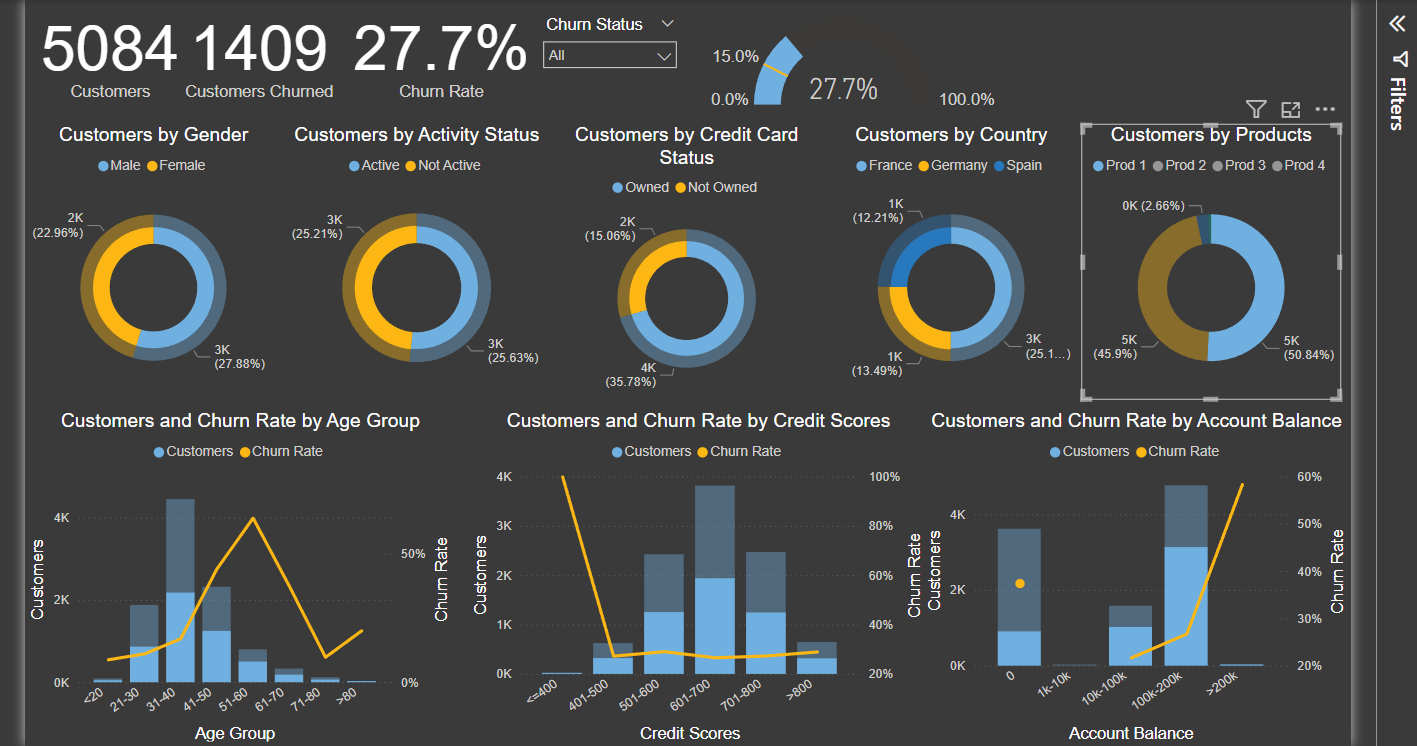

The page's visual inventory and layout, read from the dashboard file:
{"tool":"powerbi","page":{"name":"Page 1","canvas":[1280,720],"ordinal":0},"visuals":[{"type":"card","fields":{"Values":["Customer Data.Customers"]},"box":[9.8,0,145.5,101.5],"z":0},{"type":"card","fields":{"Values":["Customer Data.Customers Churned"]},"box":[146.8,0,157.8,101.5],"z":1},{"type":"card","fields":{"Values":["Customer Data.Churn Rate"]},"box":[304.6,0,193.5,101.5],"z":2},{"type":"donutChart","fields":{"Category":["Customer Data.Gender"],"Y":["Customer Data.Customers"]},"box":[0,119.4,248.4,266.2],"z":3},{"type":"donutChart","fields":{"Y":["Customer Data.Customers"],"Category":["Customer Data.Activity Status"]},"box":[248.4,119.4,259.3,266.2],"z":4},{"type":"donutChart","fields":{"Y":["Customer Data.Customers"],"Category":["Customer Data.Credit Card Status"]},"box":[509.1,119.4,259.3,266.2],"z":5},{"type":"donutChart","fields":{"Y":["Customer Data.Customers"],"Category":["Customer Data.Country"]},"box":[768.4,119.4,251.1,266.2],"z":6},{"type":"donutChart","fields":{"Y":["Customer Data.Customers"],"Category":["Customer Data.Products"]},"box":[1019.6,119.4,251.1,266.2],"z":7},{"type":"lineClusteredColumnComboChart","fields":{"Category":["Age Group ID.Age Group"],"Y":["Customer Data.Customers"],"Y2":["Customer Data.Churn Rate"]},"box":[0,395.2,415.8,325.2],"z":8},{"type":"lineClusteredColumnComboChart","fields":{"Y":["Customer Data.Customers"],"Y2":["Customer Data.Churn Rate"],"Category":["Credit Scores ID.Credit Scores"]},"box":[426.8,395.2,446,325.2],"z":9},{"type":"lineClusteredColumnComboChart","fields":{"Y":["Customer Data.Customers"],"Y2":["Customer Data.Churn Rate"],"Category":["Acct Balance ID.Account Balance"]},"box":[864.5,395.2,415.8,325.2],"z":10},{"type":"slicer","fields":{"Values":["Customer Data.Churn Status"]},"box":[489.9,9.6,149.6,91.9],"z":11},{"type":"gauge","fields":{"Y":["Customer Data.Churn Rate"],"MinValue":["Min(Customer Data.Minimum Churn Rate)"],"MaxValue":["Max(Customer Data.Maximum Churn Rate)"],"TargetValue":["Min(Customer Data.Target Churn Rate)"]},"box":[650.4,9.6,297.8,101.5],"z":12}]}

Visuals, with their boxes in screenshot pixels (x1, y1, x2, y2):
card - Customer Data.Customers: left=51, top=18, right=199, bottom=122
card - Customer Data.Customers Churned: left=190, top=18, right=352, bottom=122
card - Customer Data.Churn Rate: left=352, top=18, right=549, bottom=122
donutChart - Customer Data.Gender x Customer Data.Customers: left=41, top=140, right=294, bottom=412
donutChart - Customer Data.Customers x Customer Data.Activity Status: left=294, top=140, right=559, bottom=412
donutChart - Customer Data.Customers x Customer Data.Credit Card Status: left=560, top=140, right=825, bottom=412
donutChart - Customer Data.Customers x Customer Data.Country: left=825, top=140, right=1081, bottom=412
donutChart - Customer Data.Customers x Customer Data.Products: left=1082, top=140, right=1338, bottom=412
lineClusteredColumnComboChart - Age Group ID.Age Group x Customer Data.Customers: left=41, top=422, right=465, bottom=745
lineClusteredColumnComboChart - Customer Data.Customers x Customer Data.Churn Rate: left=476, top=422, right=932, bottom=745
lineClusteredColumnComboChart - Customer Data.Customers x Customer Data.Churn Rate: left=923, top=422, right=1348, bottom=745
slicer - Customer Data.Churn Status: left=541, top=28, right=694, bottom=122
gauge - Customer Data.Churn Rate x Min(Customer Data.Minimum Churn Rate): left=705, top=28, right=1009, bottom=132
